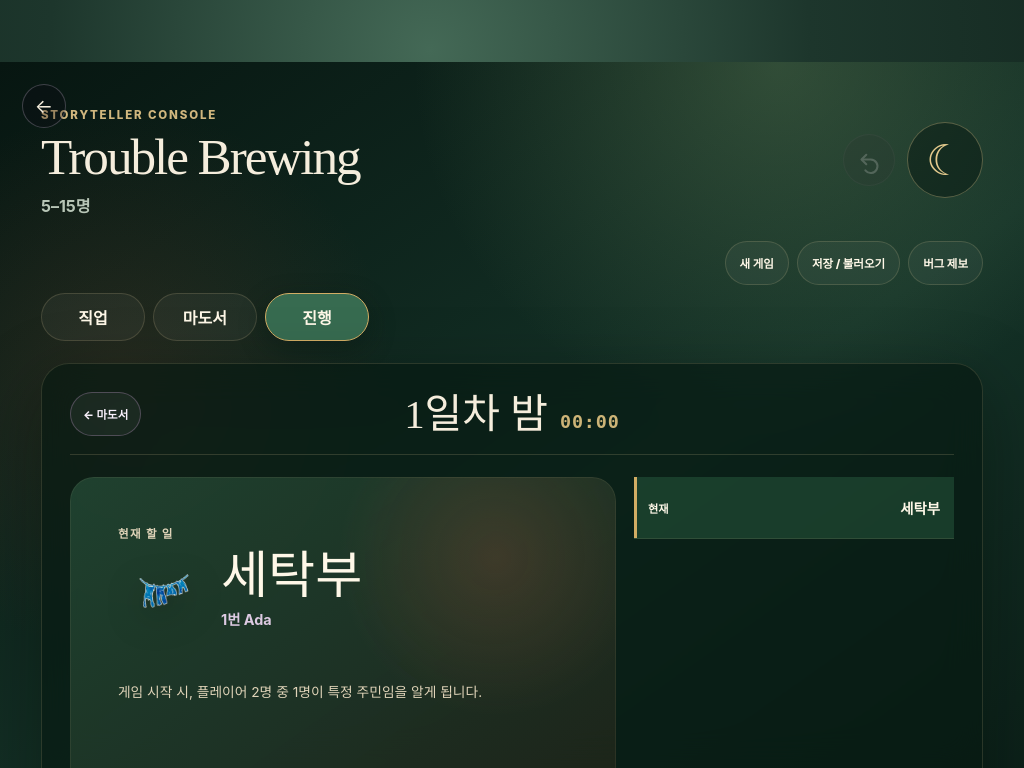
opens the current actor rules card and restores focus after Escape
Expected: the picture named "세탁부 공식 캐릭터 아이콘" is shown, [127, 552, 203, 628]
Expected: the heading named "세탁부: 1번 Ada" is shown, [221, 550, 362, 602]
Click the button with aria-label "세탁부 캐릭터 상세 열기". click: (247, 590)
box: [118, 541, 375, 638]
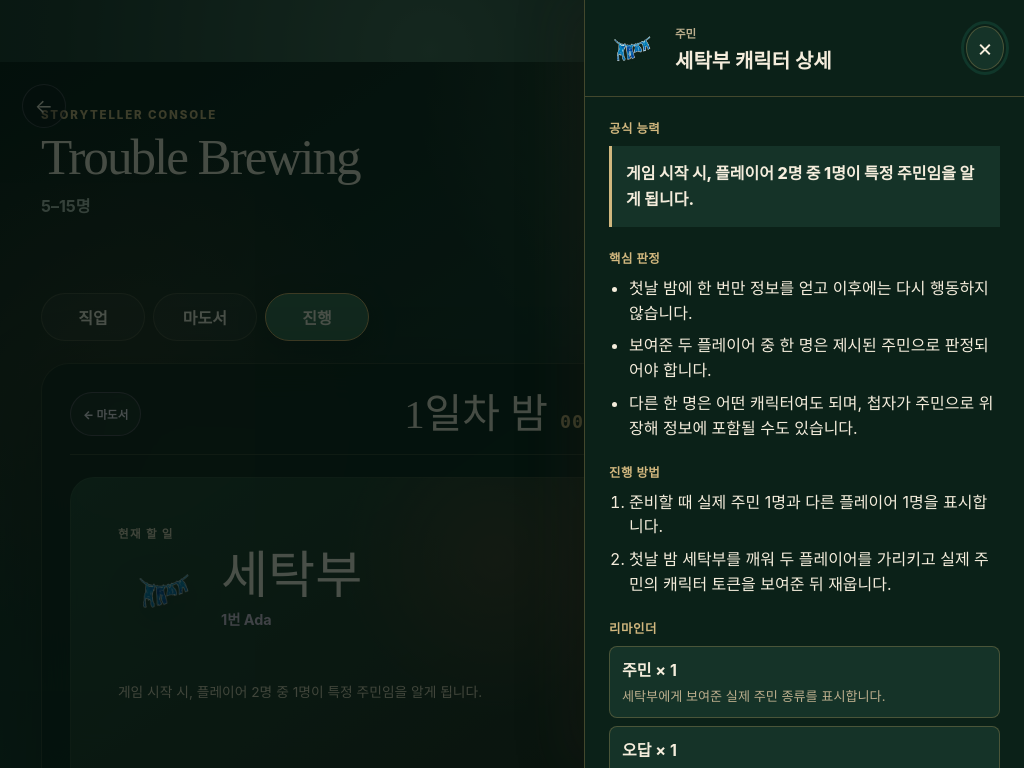
Expected: the dialog "세탁부 캐릭터 상세" is shown, [584, 0, 1023, 767]
Press Escape
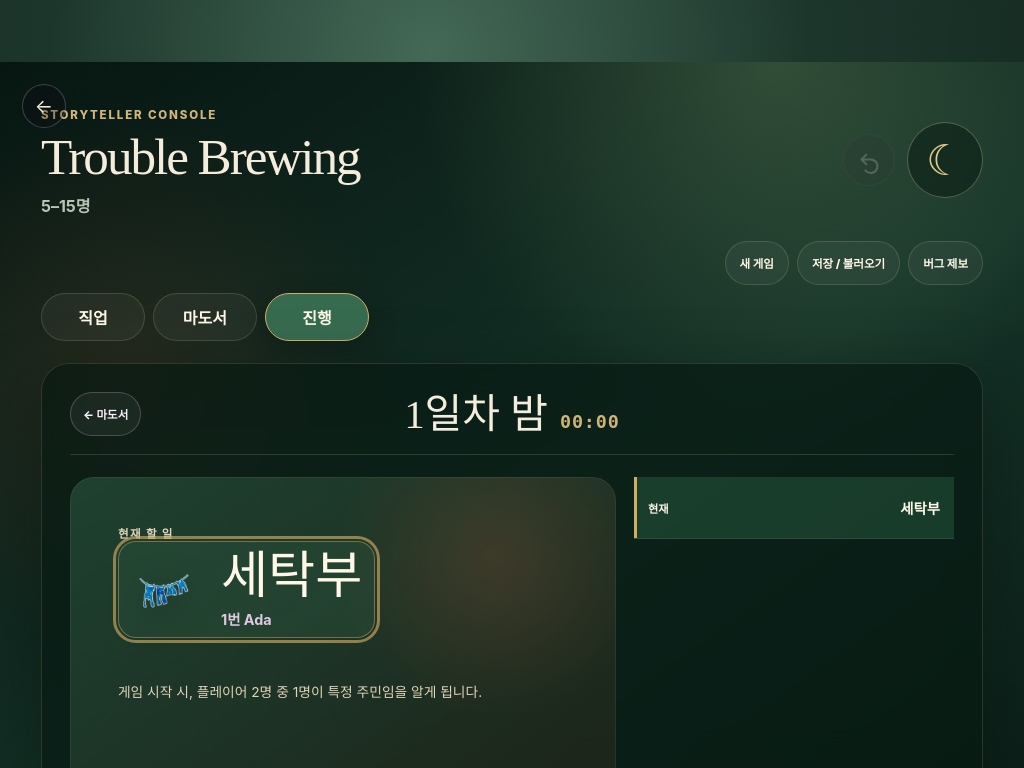
Expected: the heading "세탁부 캐릭터 상세" is gone
